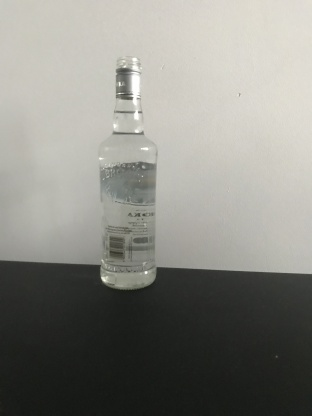nakretka: (113, 55, 143, 101)
